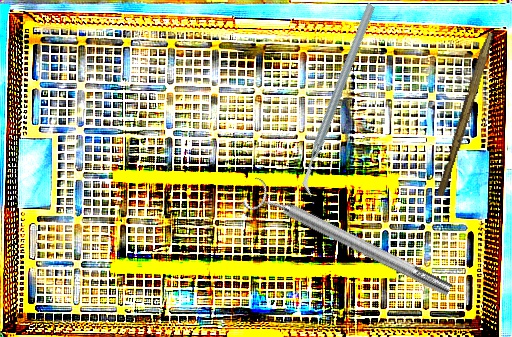Chopper: (241, 0, 438, 199)
Fixation Ring: (241, 174, 457, 308)
Scalpel Handle: (435, 30, 495, 198)
